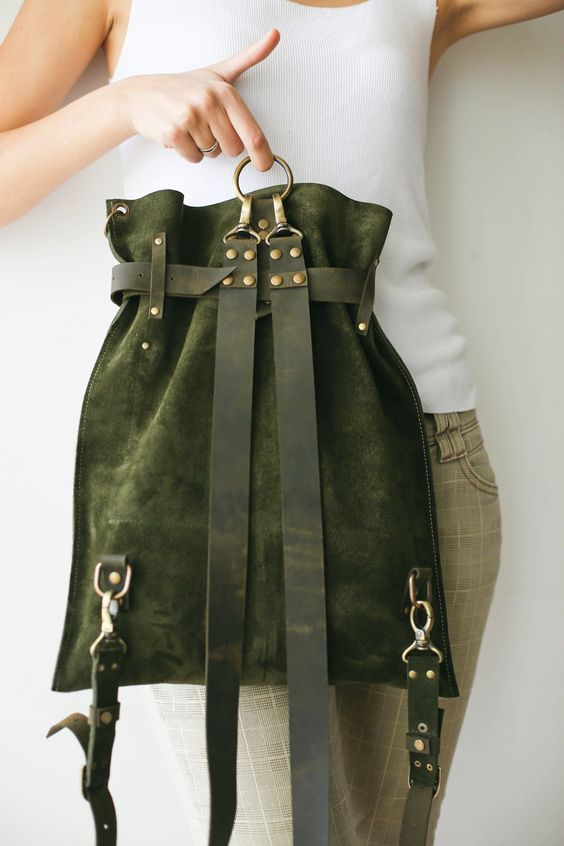cuero: (107, 232, 378, 846)
